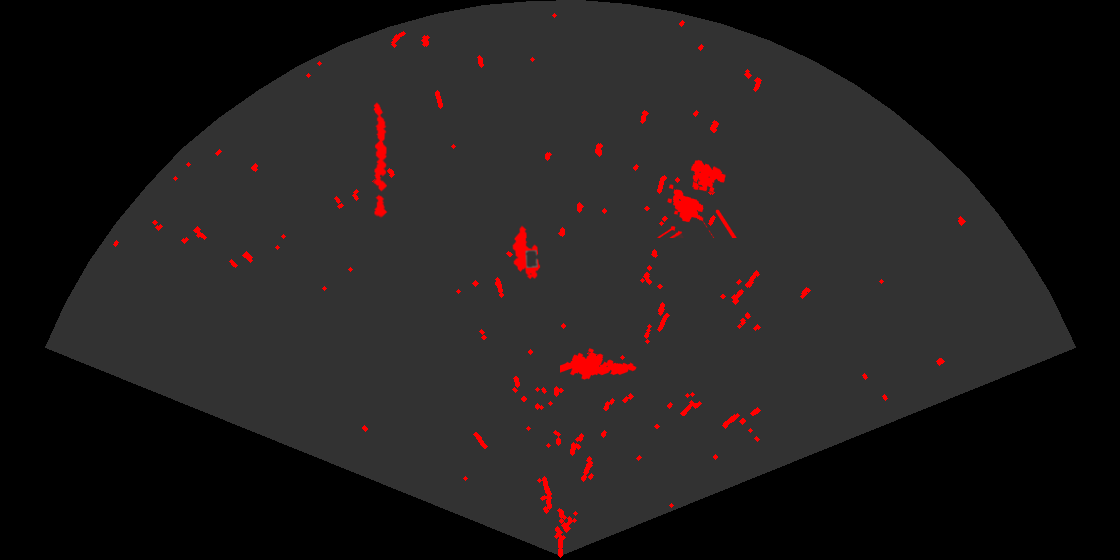AUV: (511, 224, 542, 281)
cage: (656, 158, 738, 238)
chain: (372, 101, 389, 219)
frogman: (560, 347, 638, 381)
